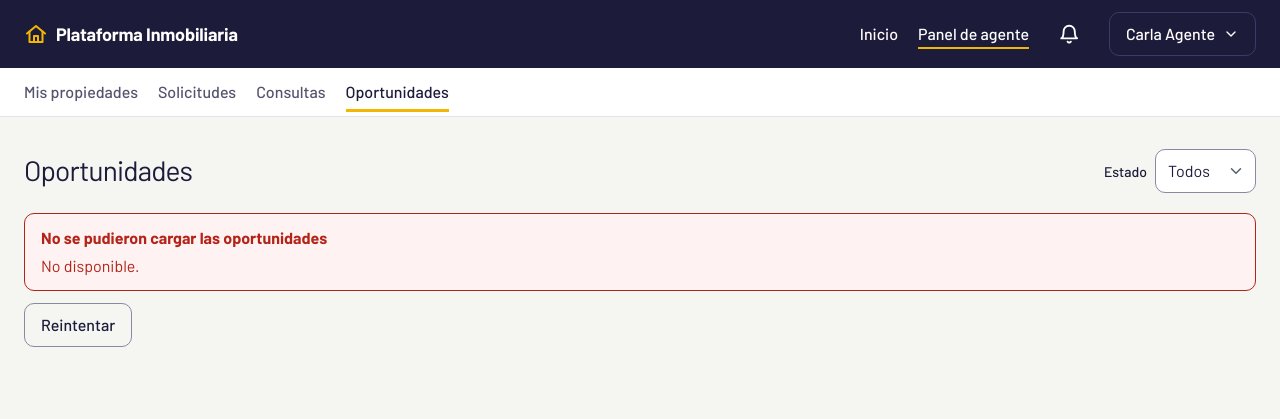
AgentLeadsPage › shows the error and allows retrying when the list does not load
expect the message shows "No disponible.": met, box [41, 256, 140, 275]
Click the button "Reintentar" at (78, 325), box [24, 303, 132, 347]
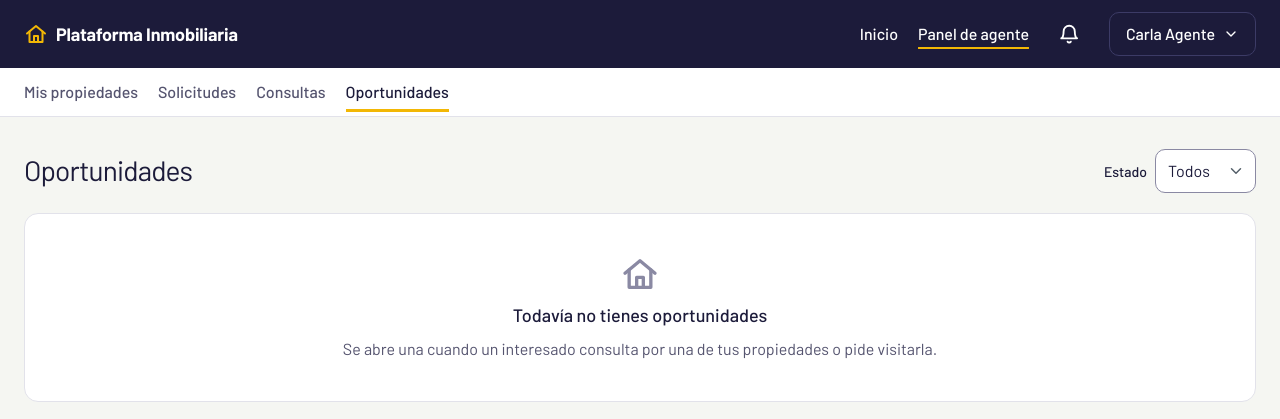
expect the text "Todavía no tienes oportunidades" is shown: met, box [513, 302, 767, 329]
